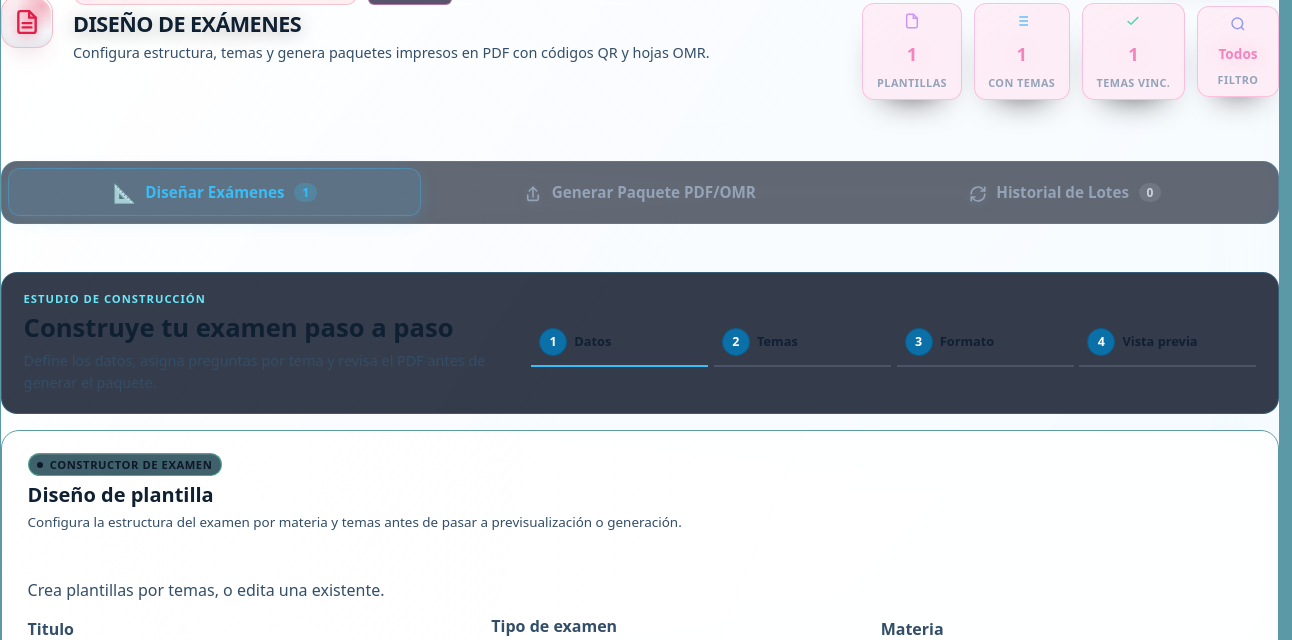
Test: plantillas refactor y navegación por pestañas (SPEC-034) › exige seleccionar grupo cuando la plantilla tiene varios padrones y calcula solo el grupo elegido
The width and height of the screenshot is (1292, 640).
Click the tab "Generar Paquete PDF/OMR".
click(640, 192)  # box [434,168,847,216]
(page scrolled)
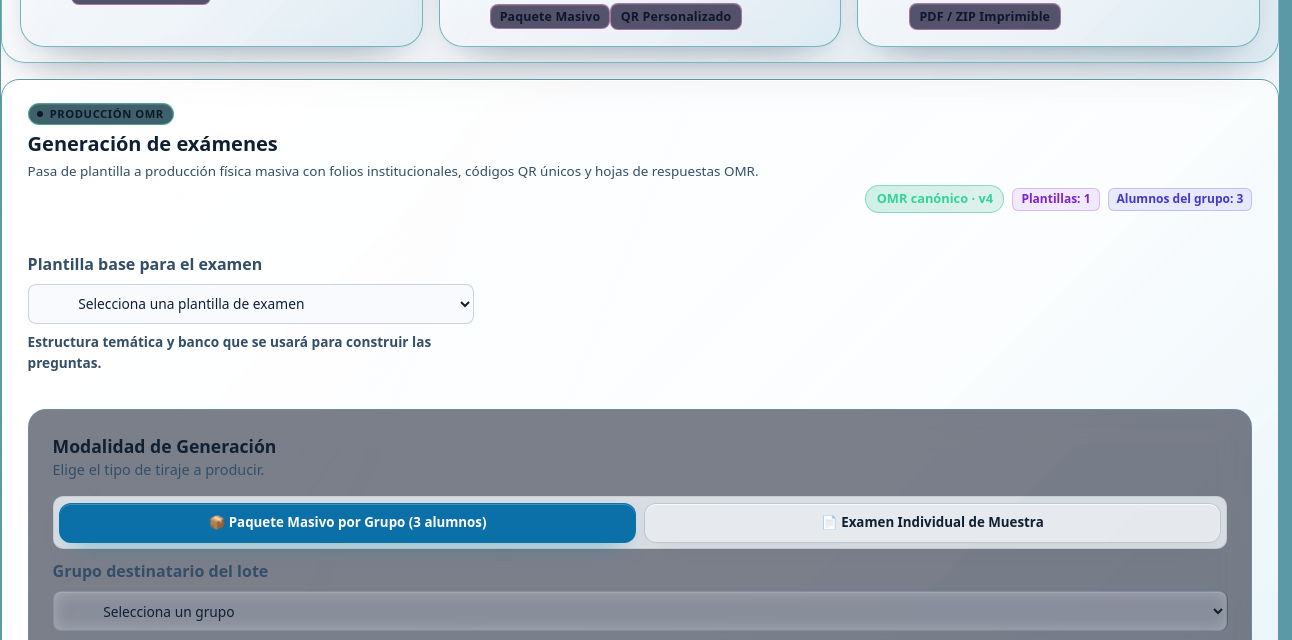
Select "Periodo 1 · Primer Parcial (ID: pla-1)" in the dropdown labelled "Plantilla base para el examen" at (251, 304), box [28,284,474,324]
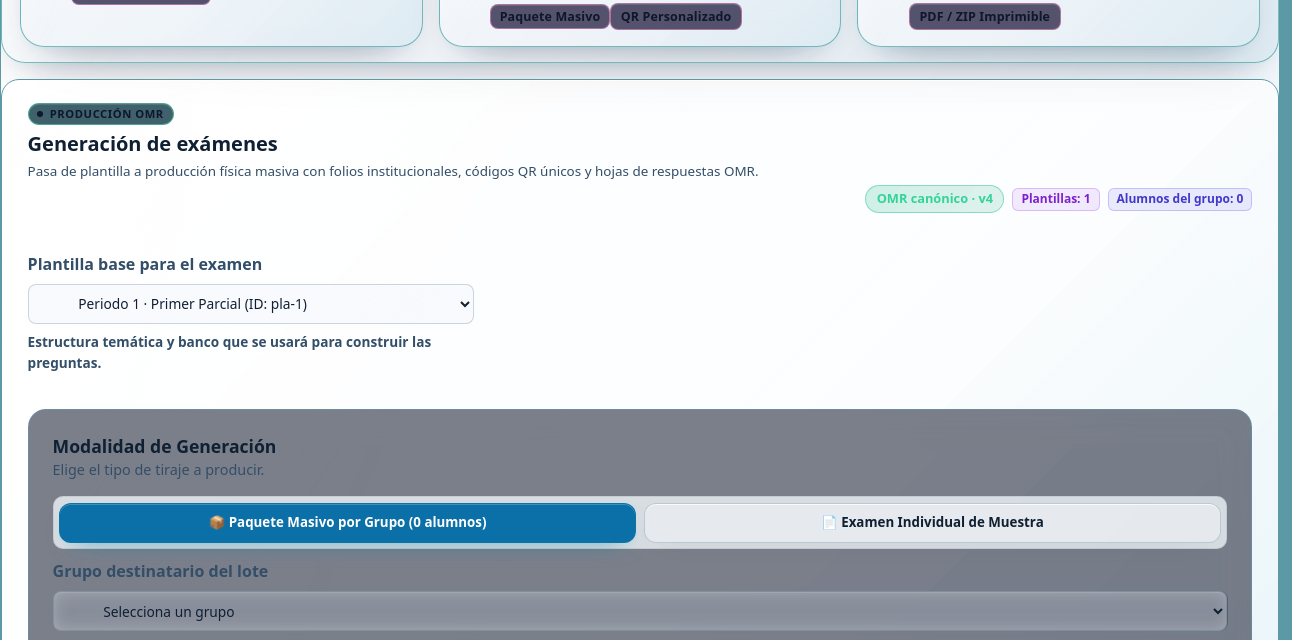
Expected: the dropdown labelled "Grupo destinatario del lote" shows "Selecciona un grupo"
Expected: the text "Alumnos del grupo: 0" is shown, [1108,188,1252,211]
Select "B" in the dropdown labelled "Grupo destinatario del lote" at (640, 611), box [53,591,1227,631]
(page scrolled)
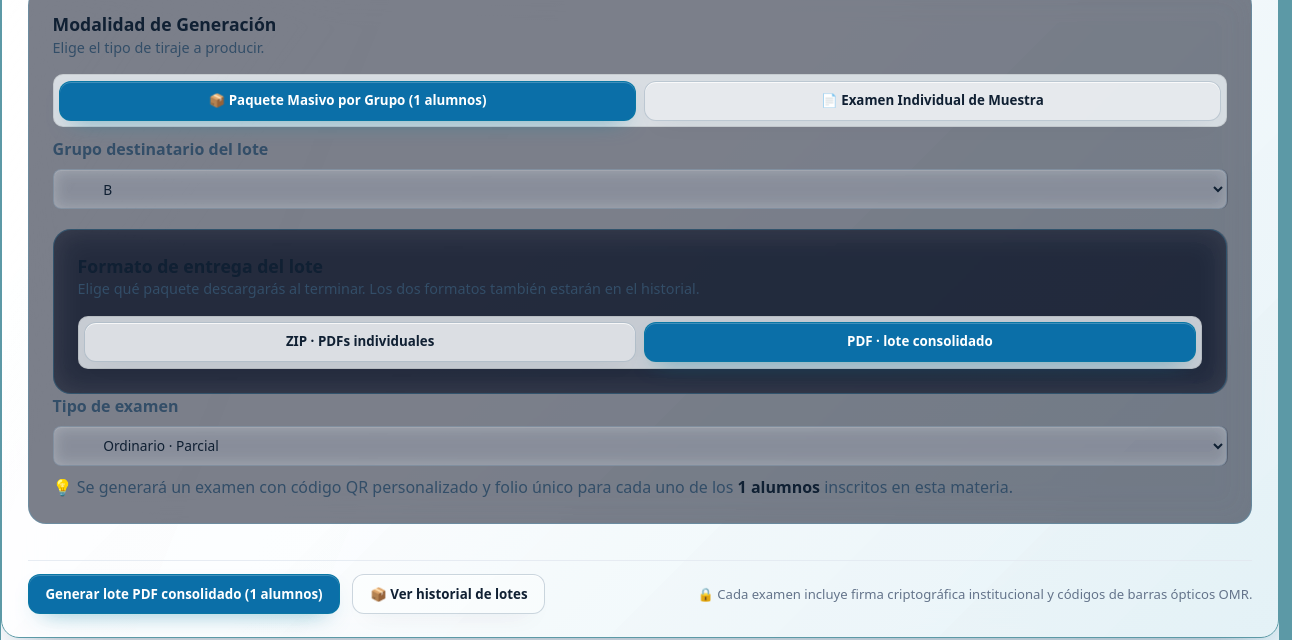
Expected: the button "Generar lote PDF consolidado (1 alumnos)" is enabled, [28,574,340,614]
